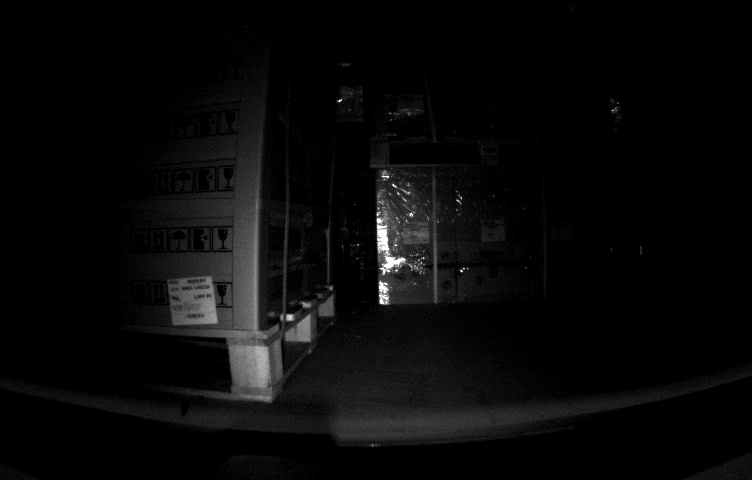True Barcode: (167, 275, 220, 326)
